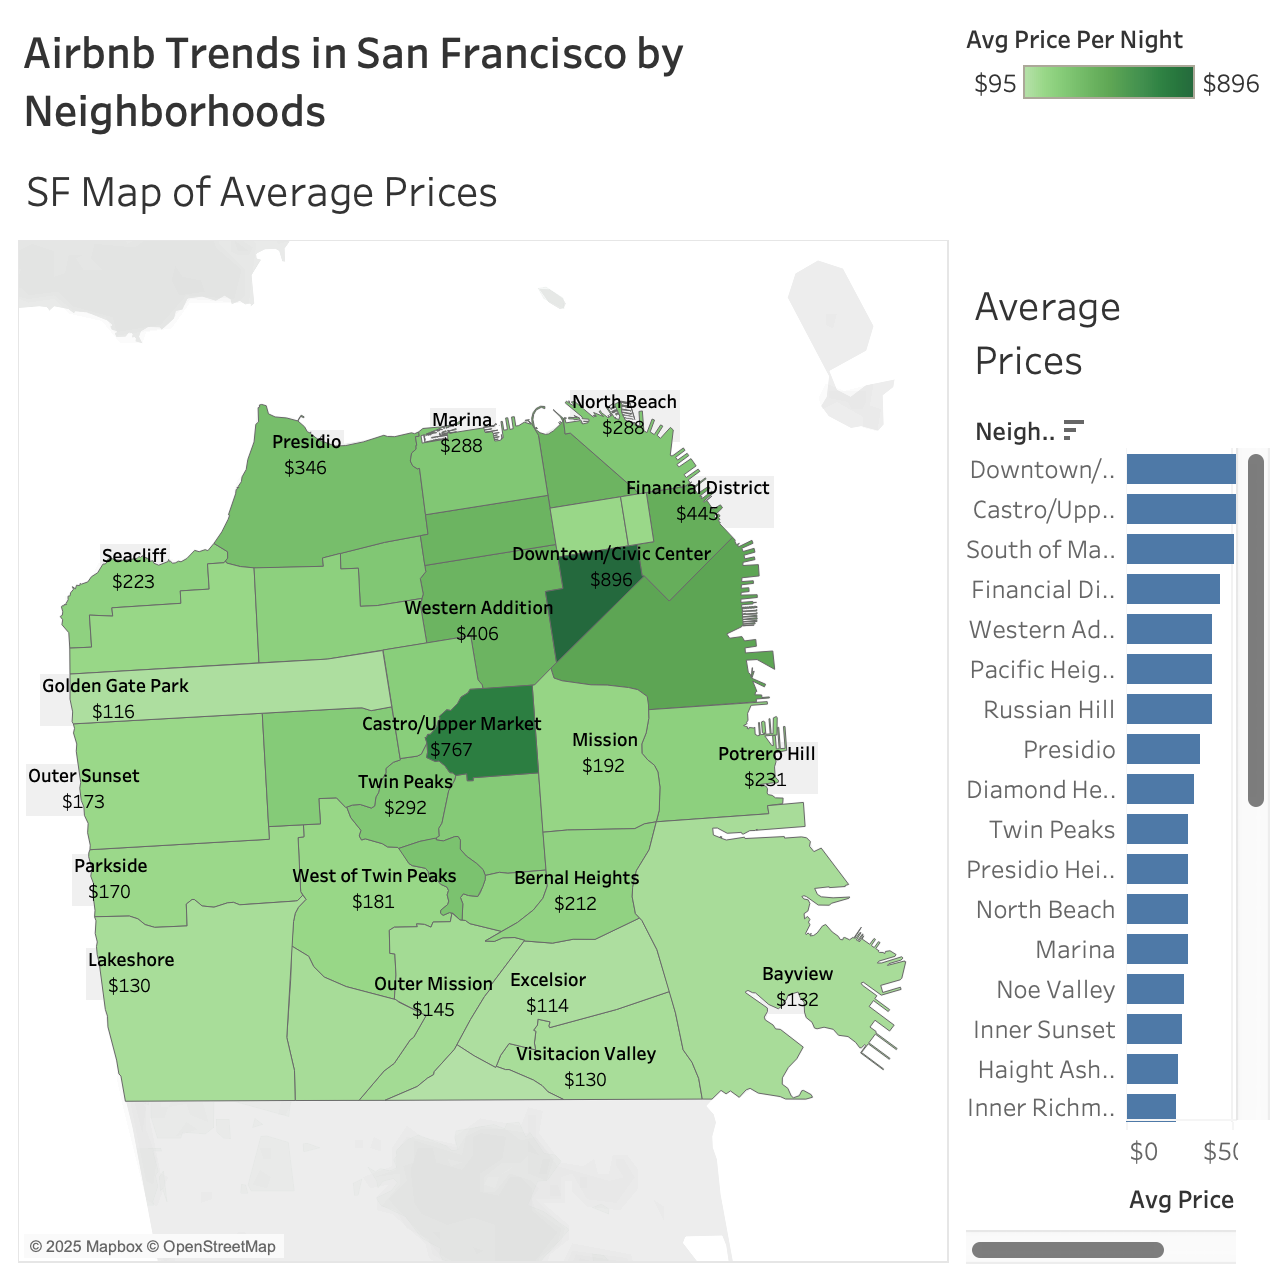

What the dashboard file says about the page in this screenshot:
{"tool":"tableau","page":{"name":"Airbnb Trends in San Francisco","canvas":[650,860],"ordinal":0},"visuals":[{"type":"title","box":[8,10.7,474,88]},{"type":"legend","title":"Map of Average Prices by Neighborhood","param":"[federated.16k1dmh0ftpvz511ocjvy0mfq7x0].[sum:avg_price:qk]","box":[482,10.7,160,165.3]},{"type":"worksheet","title":"Map of Average Prices by Neighborhood","mark":"Multipolygon","box":[8,98.7,474,750.7]},{"type":"worksheet","title":"Average Price Per Neighborhood","mark":"Automatic","rows":["neighborhood"],"cols":["avg_price"],"box":[482,176,160,673.3]}]}

Visuals, with their boxes on the page's 650x860 design canvas (x1, y1, x2, y2). These are canvas units, not pixel positions in the 1288x1278 screenshot, which may show the page scaled, cropped or inside an application window:
title: box(8, 11, 482, 99)
"Map of Average Prices by Neighborhood" legend: box(482, 11, 642, 176)
"Map of Average Prices by Neighborhood" worksheet (Multipolygon marks): box(8, 99, 482, 849)
"Average Price Per Neighborhood" worksheet: box(482, 176, 642, 849)
